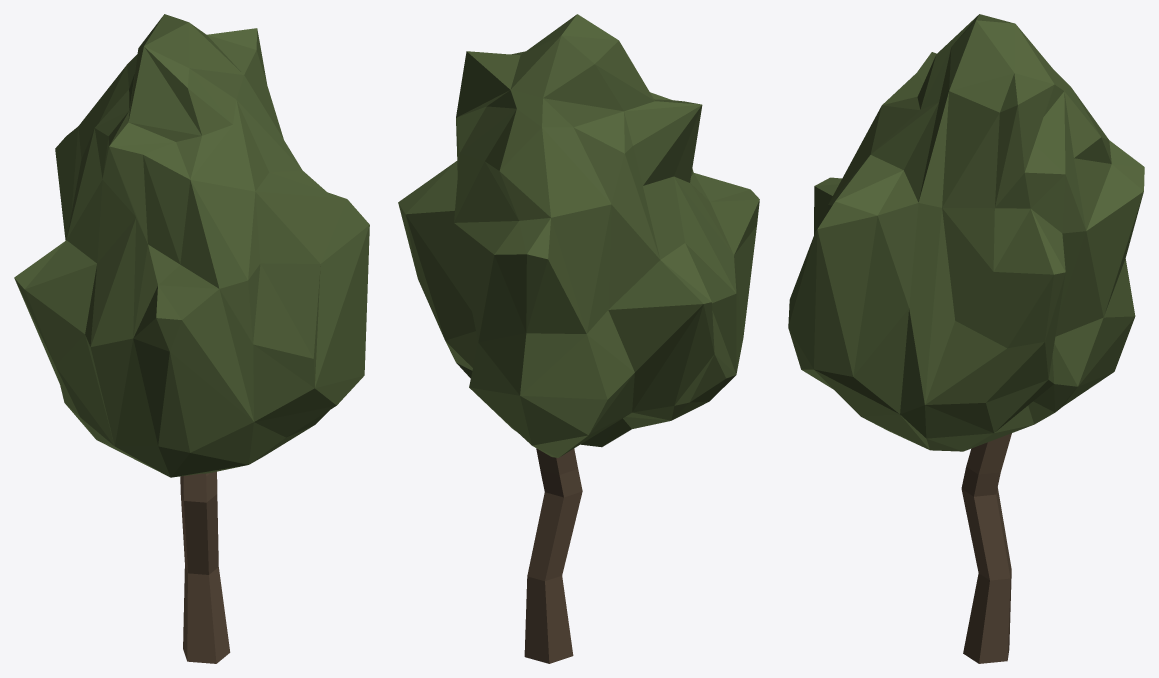
File: Tree_100.fbx
3 views of the same model, side by side, from view 1: azimuth 30°, elevation 25°; view 2: azimuth 150°, elevation 25°; view 3: azimuth 270°, elevation 25° (orthographic). The views are drawn at different scales.
Visible parts, largest first — view 1: Tree_100; view 2: Tree_100; view 3: Tree_100.
Boxes of the visible parts, x1,y1,x2,y2 form: Tree_100: [14, 14, 369, 663]; Tree_100: [398, 14, 759, 663]; Tree_100: [788, 14, 1144, 663].
Size of the model in its own units: 0.5061 by 1.07 by 0.5536.
Materials: 1 (1 with a texture image).
